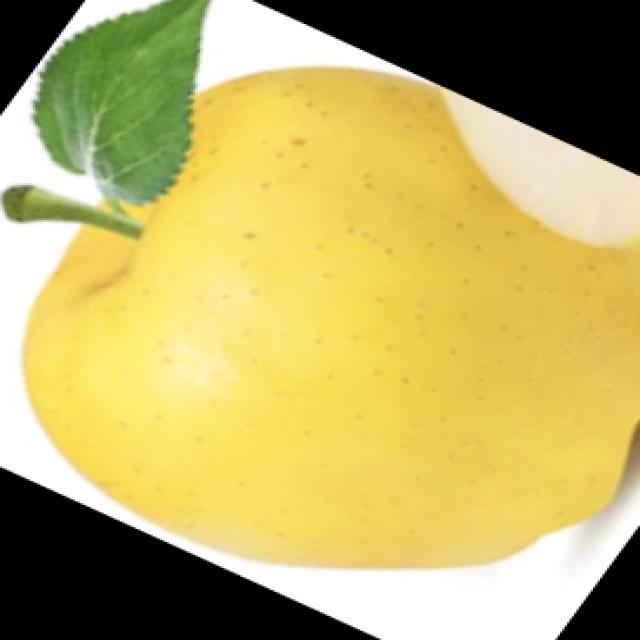Fresh Apple: (18, 81, 640, 593)
